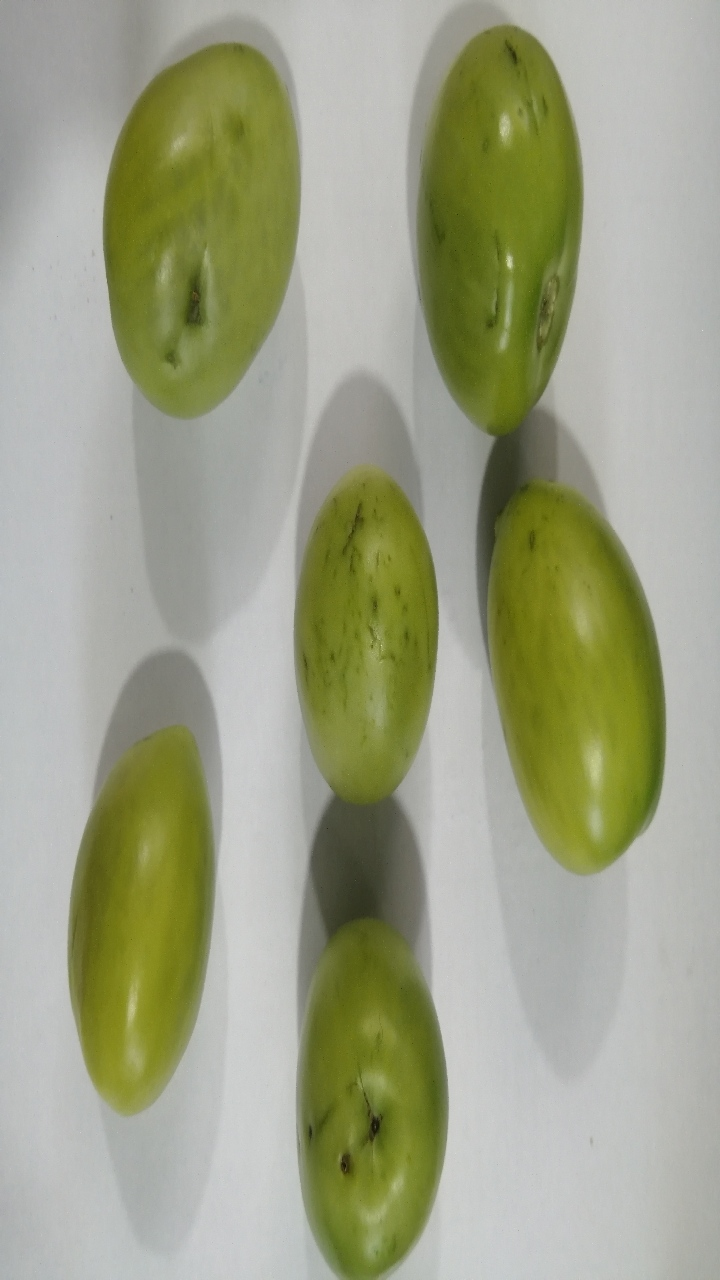tomateVerde: (443, 454, 697, 894), (375, 6, 604, 448), (80, 29, 338, 420), (41, 714, 246, 1109), (231, 457, 449, 814), (260, 897, 461, 1280)
